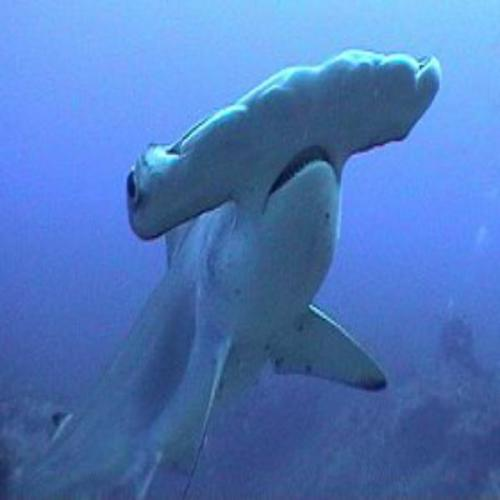shark-endangered: (0, 49, 443, 500)
